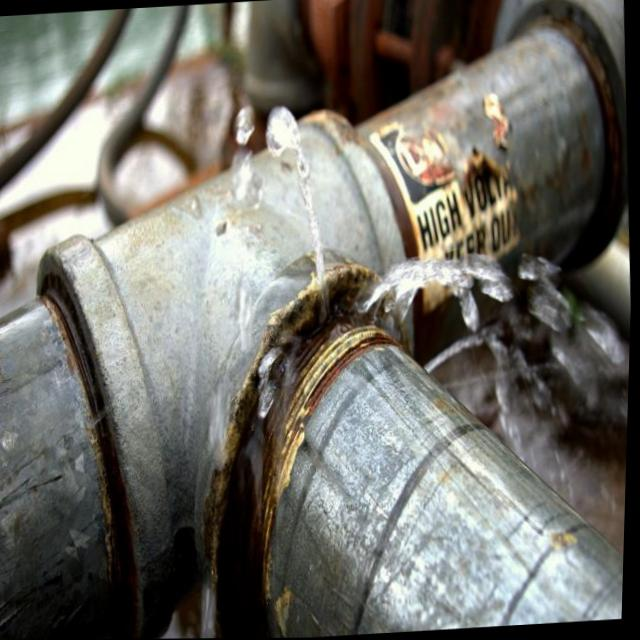leak: (200, 65, 629, 517)
